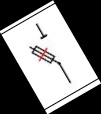t10: (24, 32, 65, 72)
